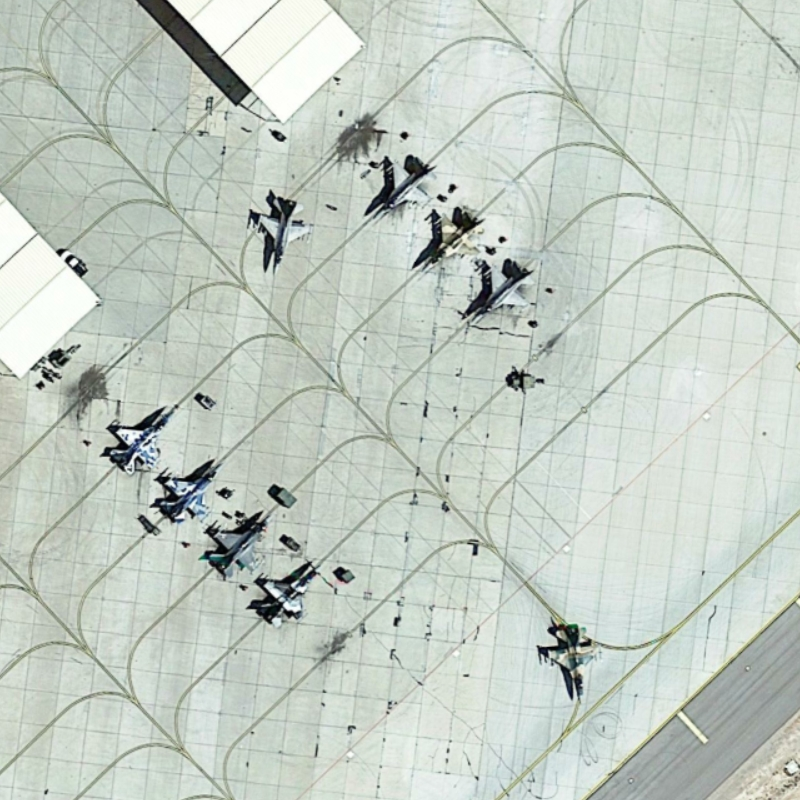A5: (199, 498, 283, 576), (104, 400, 181, 482), (535, 616, 602, 709), (462, 253, 540, 329), (413, 205, 491, 273), (250, 193, 312, 278), (369, 153, 442, 222), (149, 459, 223, 526)
